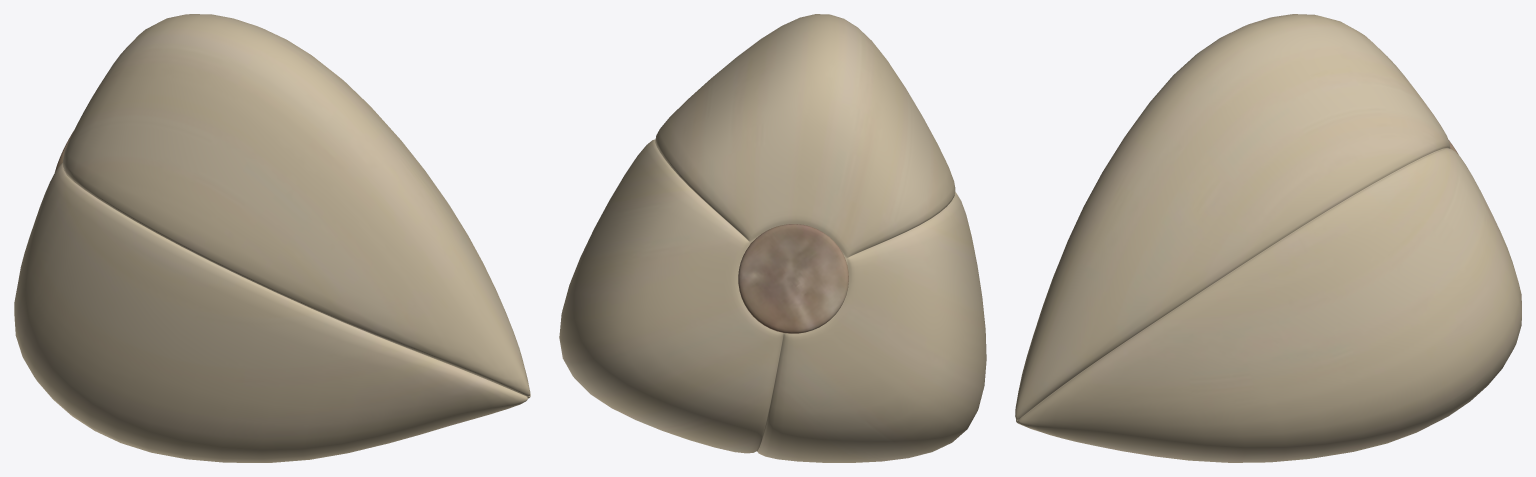
Rendered from GrainBuckwheat002.obj.
3 renders of one model, left to right at view 1: azimuth 30°, elevation 25°; view 2: azimuth 150°, elevation 25°; view 3: azimuth 270°, elevation 25°, orthographic. The views are drawn at different scales.
Parts seen in each view (by area): view 1: GrainBuckwheat002; view 2: GrainBuckwheat002; view 3: GrainBuckwheat002.
Boxes of the visible parts, left/top/right/bottom form: GrainBuckwheat002: left=14, top=14, right=530, bottom=462; GrainBuckwheat002: left=559, top=14, right=986, bottom=462; GrainBuckwheat002: left=1015, top=14, right=1521, bottom=462.
Size of the model in its own units: 0.0261 by 0.0264 by 0.0305.
1 material, 1 textured.
